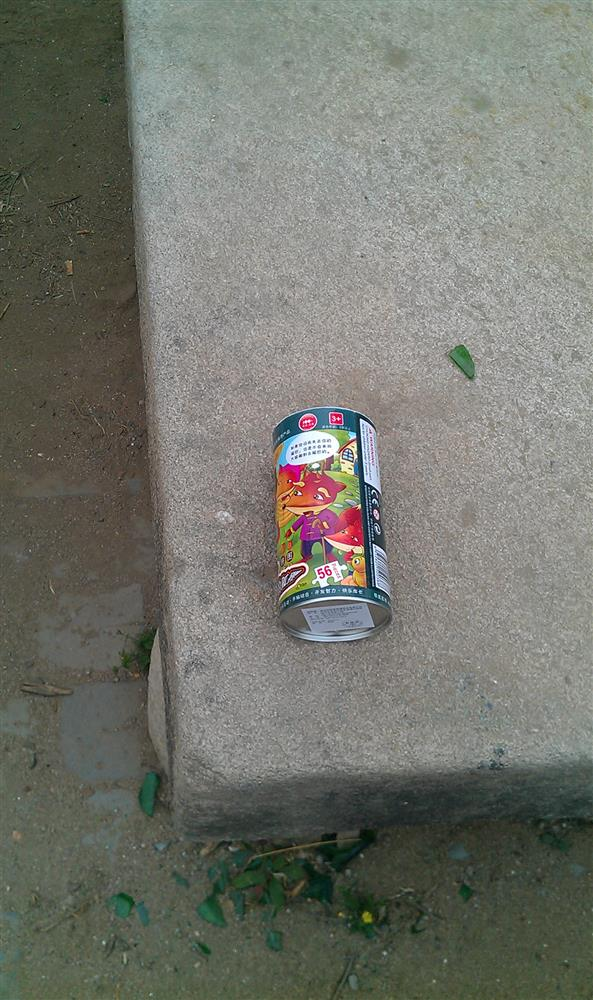foxtoy: (257, 393, 403, 649)
